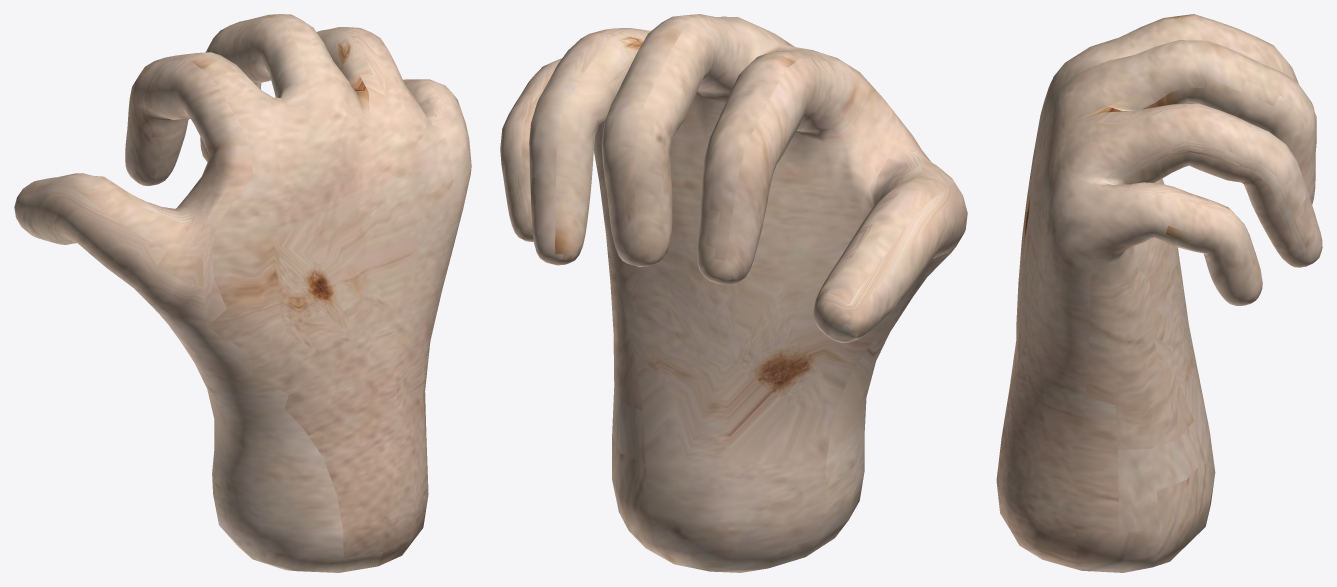
File: hand19.obj
3 views of the same model, side by side, from view 1: azimuth 30°, elevation 25°; view 2: azimuth 150°, elevation 25°; view 3: azimuth 270°, elevation 25° (orthographic). The views are drawn at different scales.
Parts seen in each view (by area): view 1: Cube.001; view 2: Cube.001; view 3: Cube.001.
Part boxes in pixels (left/top/right/bottom): Cube.001: left=14, top=14, right=471, bottom=572; Cube.001: left=500, top=14, right=967, bottom=572; Cube.001: left=996, top=14, right=1322, bottom=572.
Bounding box in the file's own units: 3.58 × 4.55 × 2.63.
